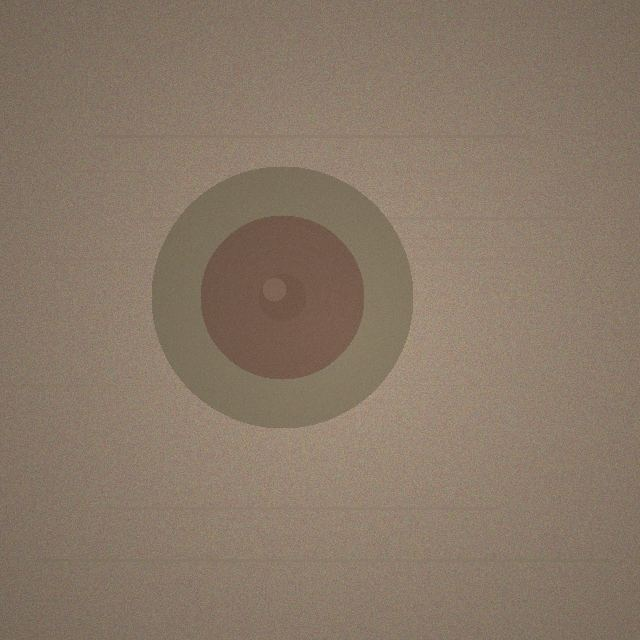good: (151, 166, 413, 428)
